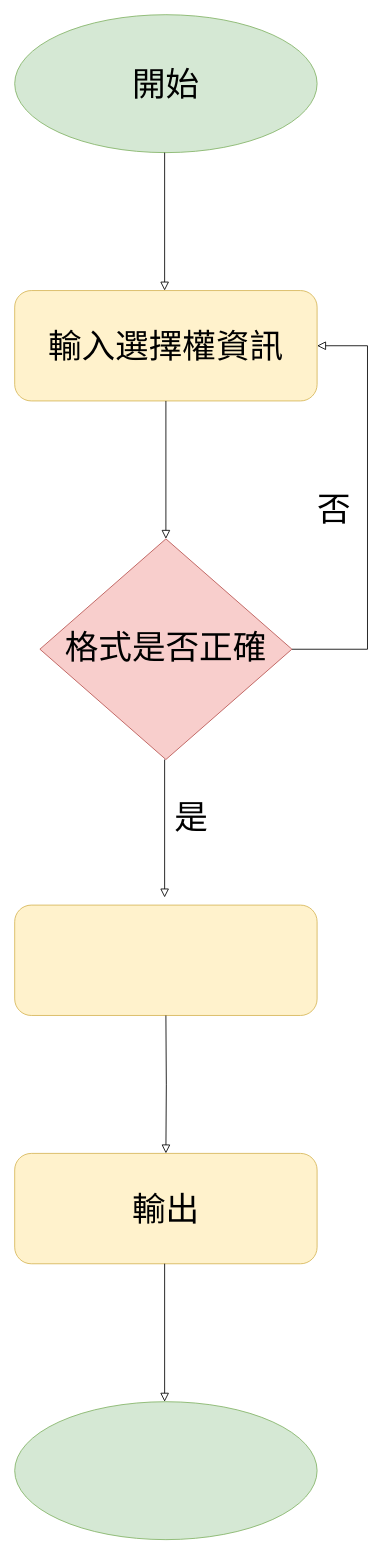
This 391x1555 diagram has some shape labels left out. Here are the shapes that lost their labels. From the top down, the centre of each, then its label:
the point at 165,959: 依公式計算
the point at 165,1470: 結束
